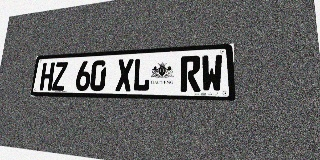0: (89, 60, 107, 91)
6: (75, 61, 92, 91)
H: (39, 62, 55, 91)
L: (132, 58, 151, 91)
R: (180, 55, 201, 92)
W: (201, 54, 223, 92)
X: (115, 59, 134, 91)
Z: (52, 62, 68, 91)
